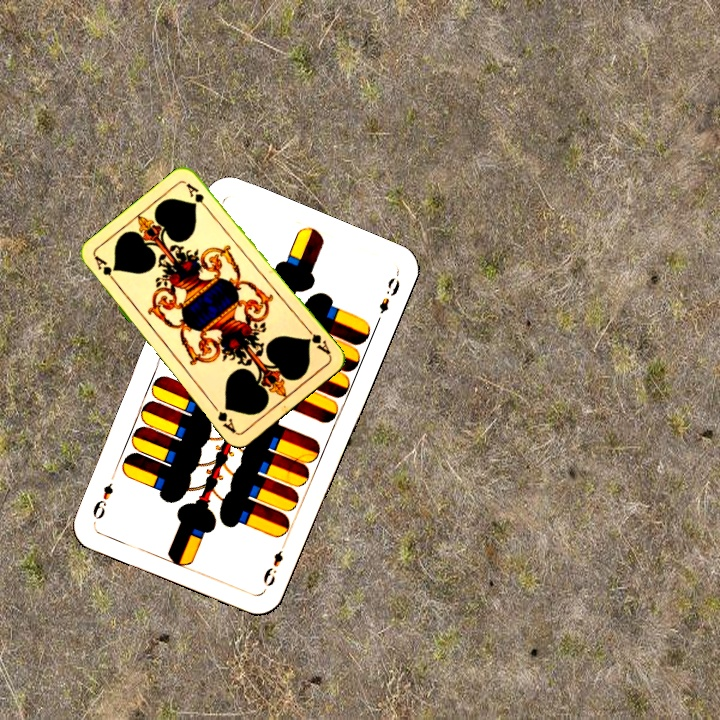E9: (259, 537, 289, 589)
GA: (302, 324, 334, 358), (91, 252, 120, 287)
